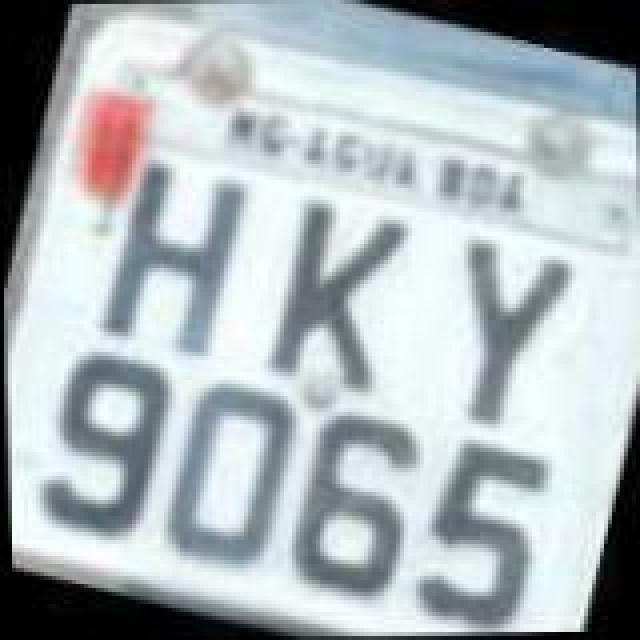5: (394, 428, 570, 636)
6: (270, 402, 438, 618)
9: (24, 340, 184, 548)
H: (82, 150, 258, 366)
K: (252, 186, 420, 402)
O: (148, 370, 316, 582)
Y: (418, 226, 582, 442)
